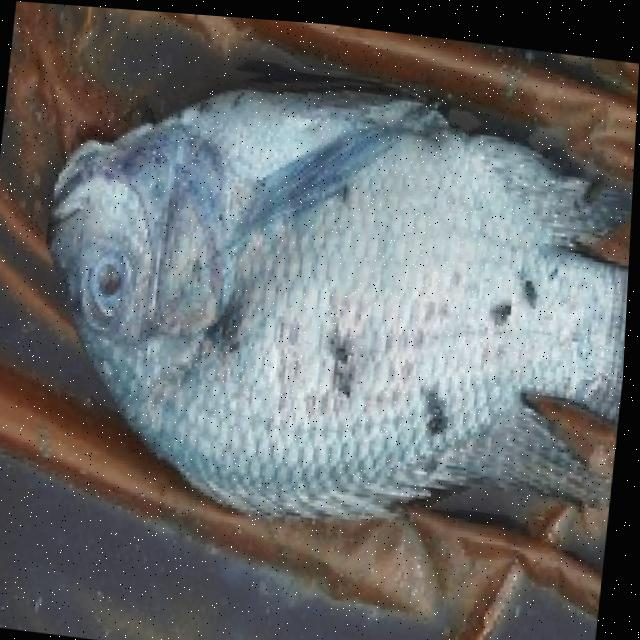Non-Fresh: (9, 69, 637, 557)
